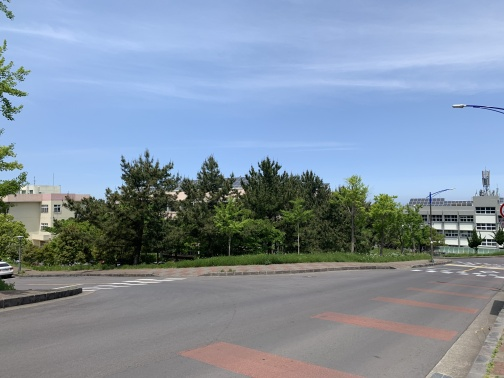College Of Education: (11, 176, 253, 238)
